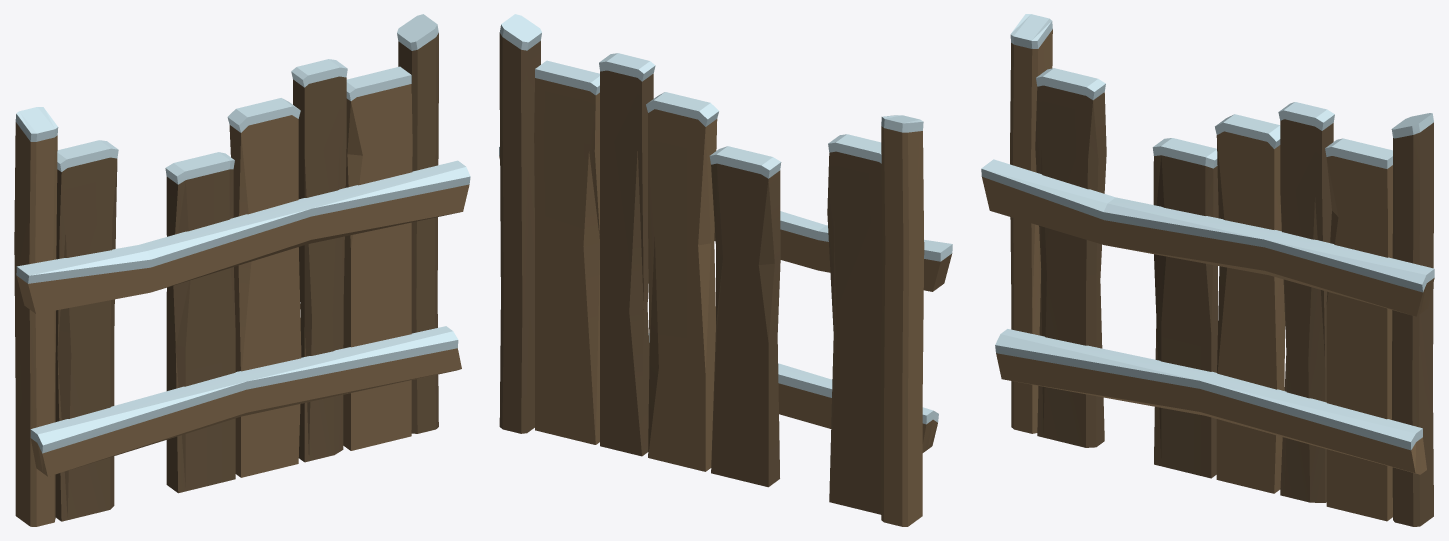
File: Cerca_Madera02.glb
3 views of the same model, side by side, from view 1: azimuth 30°, elevation 25°; view 2: azimuth 150°, elevation 25°; view 3: azimuth 330°, elevation 25° (orthographic).
Visible parts, largest first — view 1: SM_Prop_Fence_Wood_02_Snow; view 2: SM_Prop_Fence_Wood_02_Snow; view 3: SM_Prop_Fence_Wood_02_Snow.
Boxes of the visible parts, x1,y1,x2,y2 form: SM_Prop_Fence_Wood_02_Snow: (14,14,470,526); SM_Prop_Fence_Wood_02_Snow: (499,14,952,526); SM_Prop_Fence_Wood_02_Snow: (981,14,1434,526).
Size of the model in its own units: 1.96 by 1.71 by 0.2352.
1 material, 1 textured.
